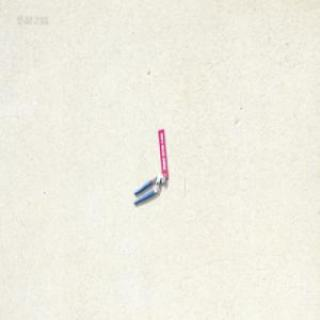LuggageTagtrack_idkeyframe: (156, 128, 168, 180)
Pliertrack_idkeyframe: (132, 172, 165, 206)
